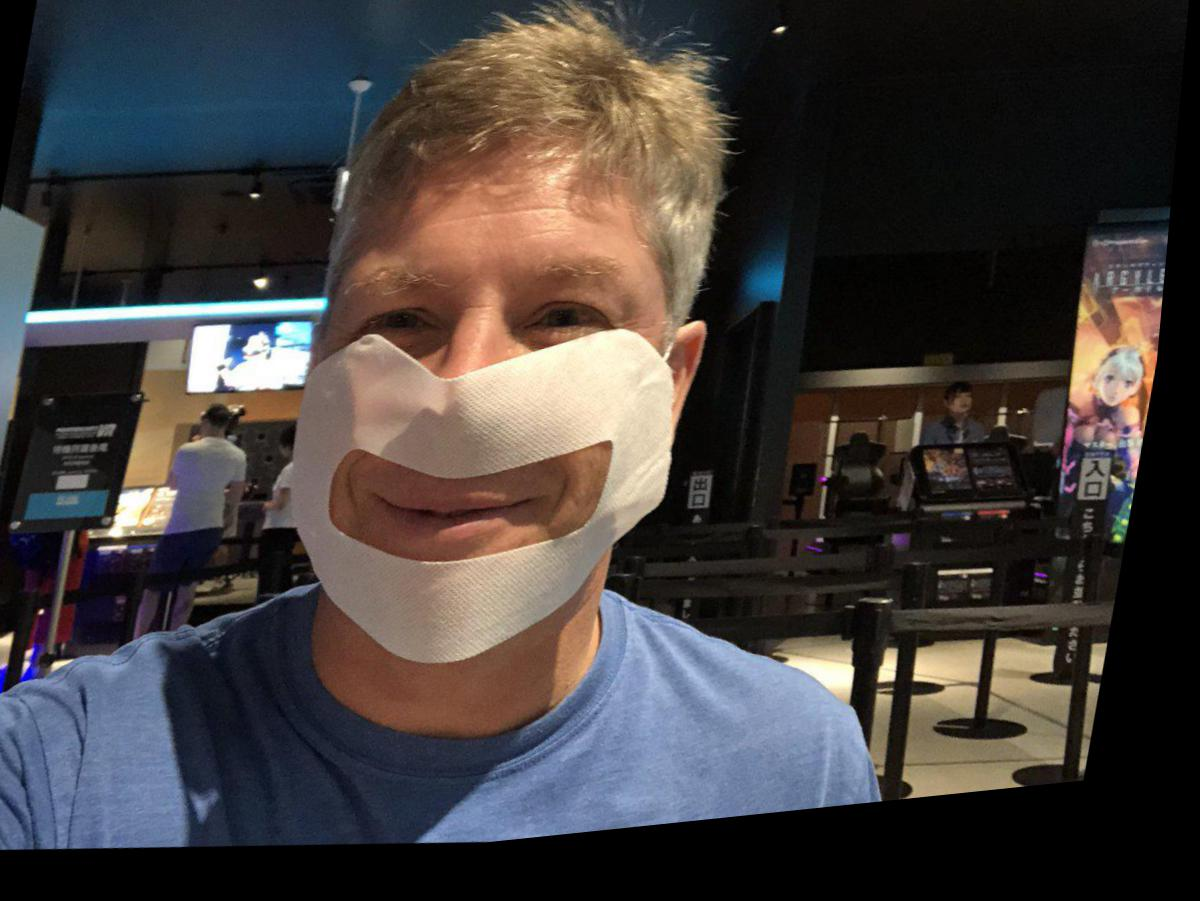WRONG: (267, 204, 705, 652)
